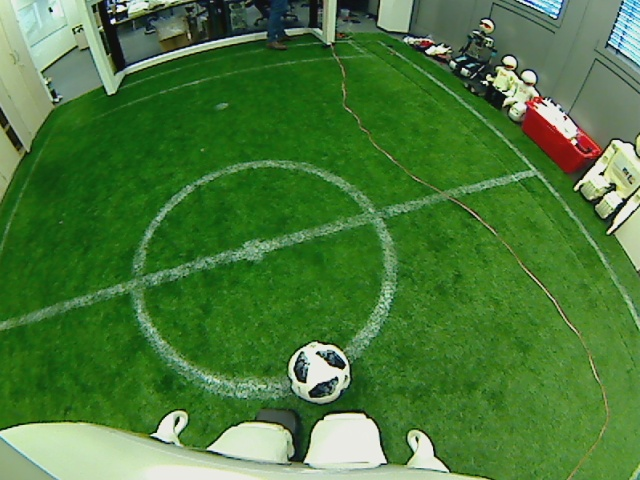ball: (284, 341, 352, 404)
